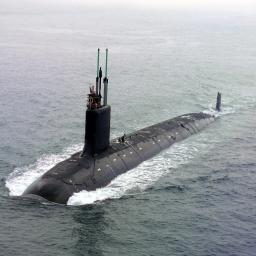submarine: (21, 48, 226, 209)
